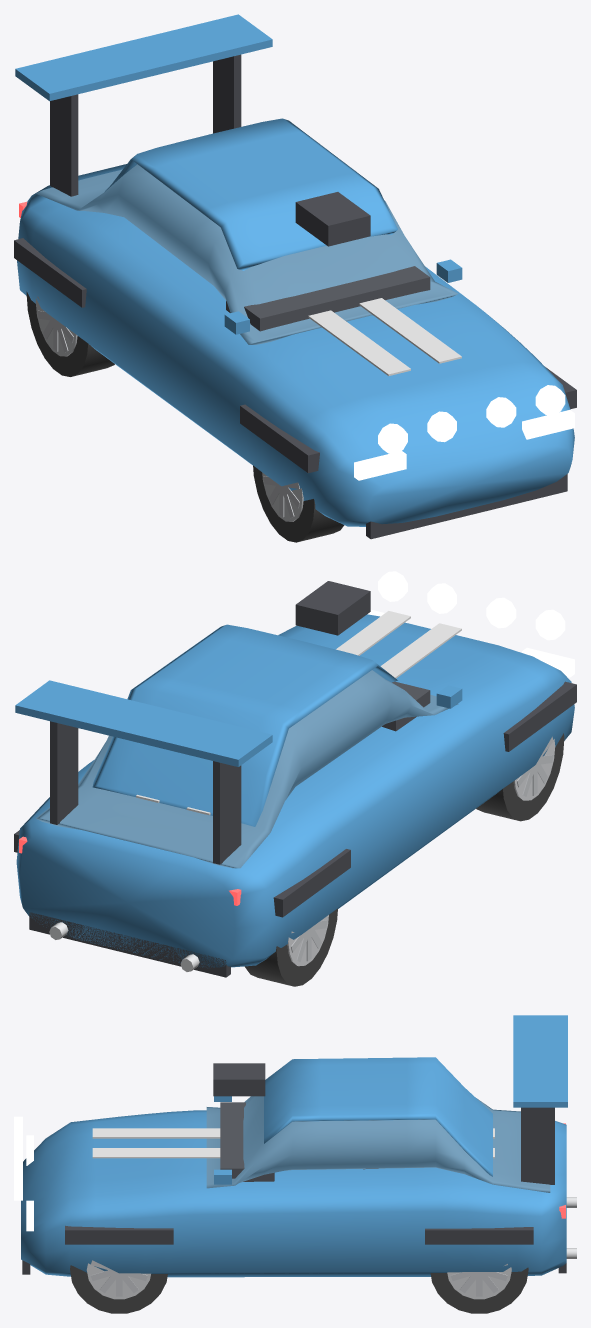
The model's file is dune.glb.
3 views of the same model, one above another, from view 1: azimuth 30°, elevation 25°; view 2: azimuth 150°, elevation 25°; view 3: azimuth 270°, elevation 25° (orthographic). The views are drawn at different scales.
Parts seen in each view (by area): view 1: Body, Car_dune, Roof, Glass, Interior, Stripe (×2), Wheel_FR, Wheel_RR; view 2: Body, Car_dune, Roof, Glass, Wheel_RR, Wheel_FR, Stripe (×2), Interior; view 3: Body, Car_dune, Glass, Roof, Wheel_FL, Wheel_RL, Stripe (×2), Interior.
Boxes of the visible parts, x1=… form: Body: x1=17, y1=164, x2=574, y2=526; Car_dune: x1=14, y1=14, x2=576, y2=539; Roof: x1=105, y1=118, x2=397, y2=270; Glass: x1=36, y1=164, x2=458, y2=344; Interior: x1=226, y1=266, x2=430, y2=331; Stripe (×2): x1=308, y1=298, x2=461, y2=376; Wheel_FR: x1=253, y1=465, x2=344, y2=542; Wheel_RR: x1=26, y1=291, x2=114, y2=376; Body: x1=16, y1=614, x2=574, y2=968; Car_dune: x1=14, y1=571, x2=576, y2=977; Roof: x1=92, y1=624, x2=397, y2=826; Glass: x1=36, y1=670, x2=458, y2=868; Wheel_RR: x1=244, y1=908, x2=337, y2=986; Wheel_FR: x1=476, y1=733, x2=564, y2=821; Stripe (×2): x1=136, y1=611, x2=461, y2=815; Interior: x1=382, y1=681, x2=430, y2=731; Body: x1=21, y1=1110, x2=566, y2=1277; Car_dune: x1=14, y1=1015, x2=576, y2=1274; Glass: x1=206, y1=1096, x2=550, y2=1192; Roof: x1=264, y1=1057, x2=492, y2=1176; Wheel_FL: x1=70, y1=1260, x2=167, y2=1313; Wheel_RL: x1=430, y1=1264, x2=528, y2=1313; Stripe (×2): x1=92, y1=1128, x2=494, y2=1158; Interior: x1=220, y1=1102, x2=378, y2=1181.
Size of the model in its own units: 1.9 by 1.76 by 4.33.
